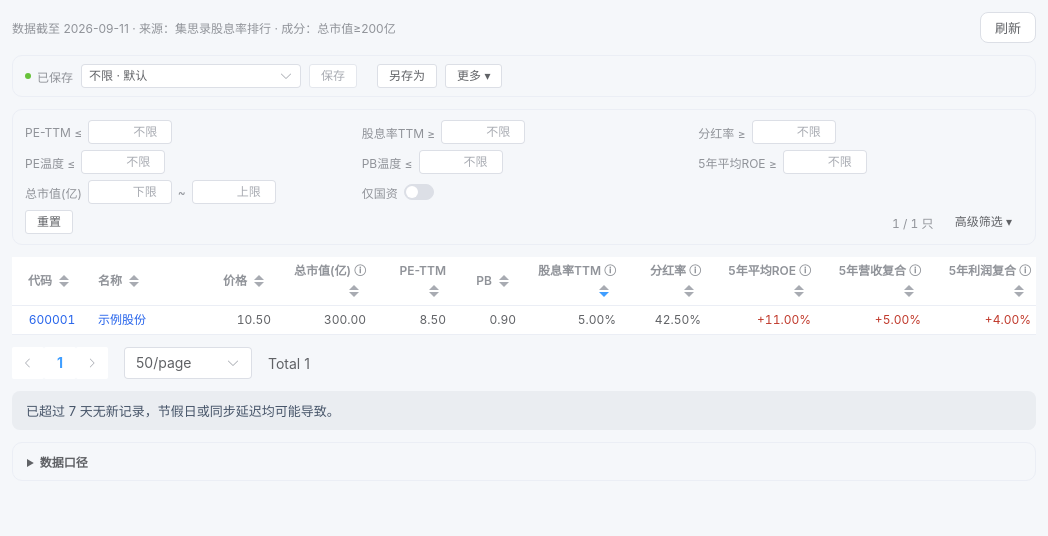
Test case: StockDividend 页面状态闭环 › 刷新失败且已有数据: 保留上次成功结果与截至日期
The width and height of the screenshot is (1048, 536).
Click the button with class "refresh-btn" at (1008, 28), box [980, 12, 1036, 43]
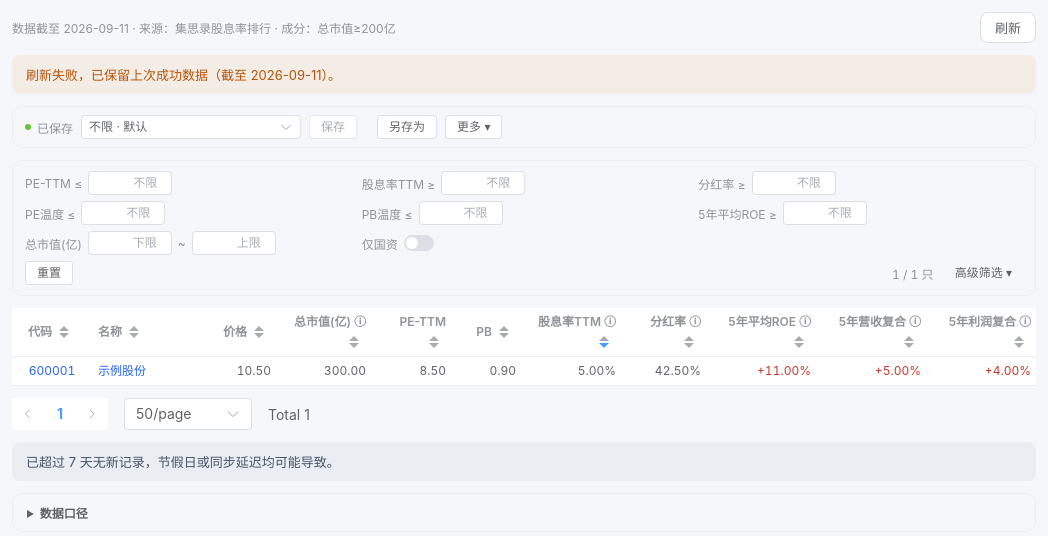
Now the text "刷新失败，已保留上次成功数据（截至 2026-09-11）。" is shown, box [12, 55, 1036, 94]
